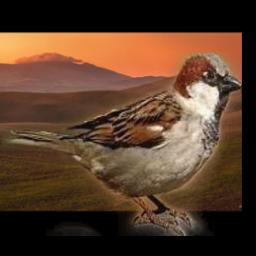Sparrow: (3, 53, 242, 237)
